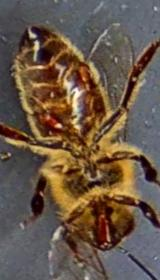varroa_mite: (27, 99, 78, 145), (64, 56, 105, 96)
